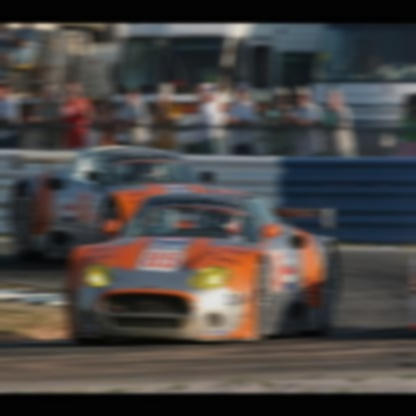Vehicle: (63, 188, 342, 348)
